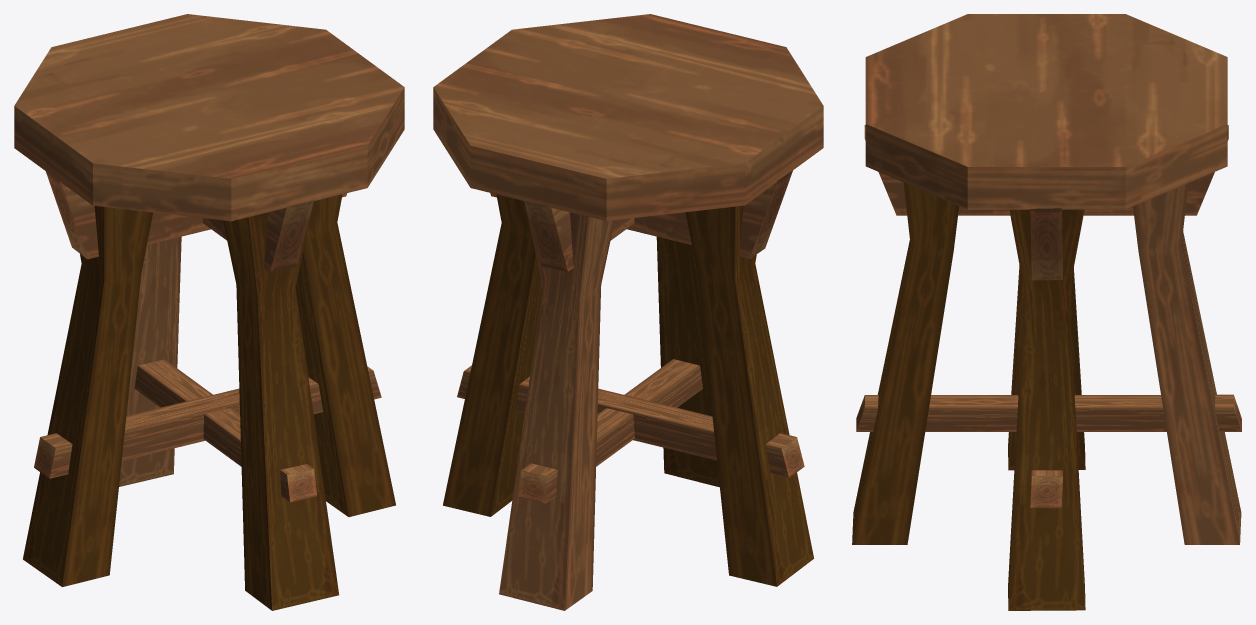
The model's file is stool.glb.
3 renders of one model, left to right at view 1: azimuth 30°, elevation 25°; view 2: azimuth 150°, elevation 25°; view 3: azimuth 270°, elevation 25°, orthographic.
Parts seen in each view (by area): view 1: Stool; view 2: Stool; view 3: Stool.
Part boxes in pixels (box(x1,y1,x2,y2)): Stool: box(14, 14, 404, 610); Stool: box(433, 14, 823, 610); Stool: box(852, 14, 1241, 610).
Bounding box in the file's own units: 0.4746 × 0.5887 × 0.4746.
1 material, 1 textured.
